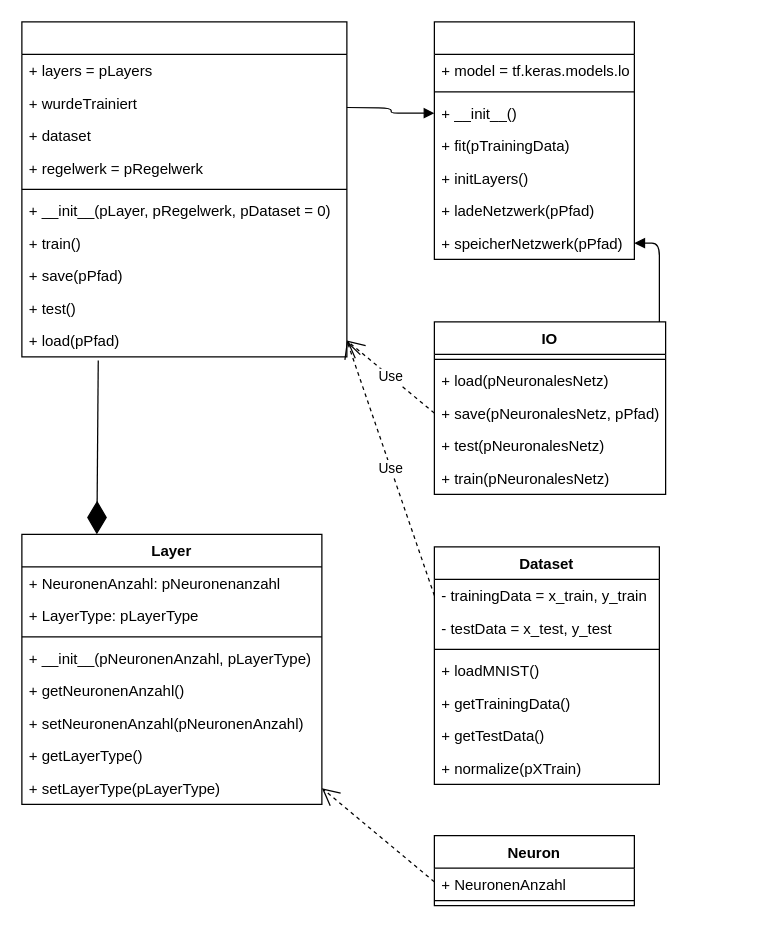
This 765x928 diagram has some shape labels left out. Each missing label, with the box of its shape:
NeuronalesNetz: (21, 21, 347, 357)
Regelwerk: (433, 21, 634, 259)
